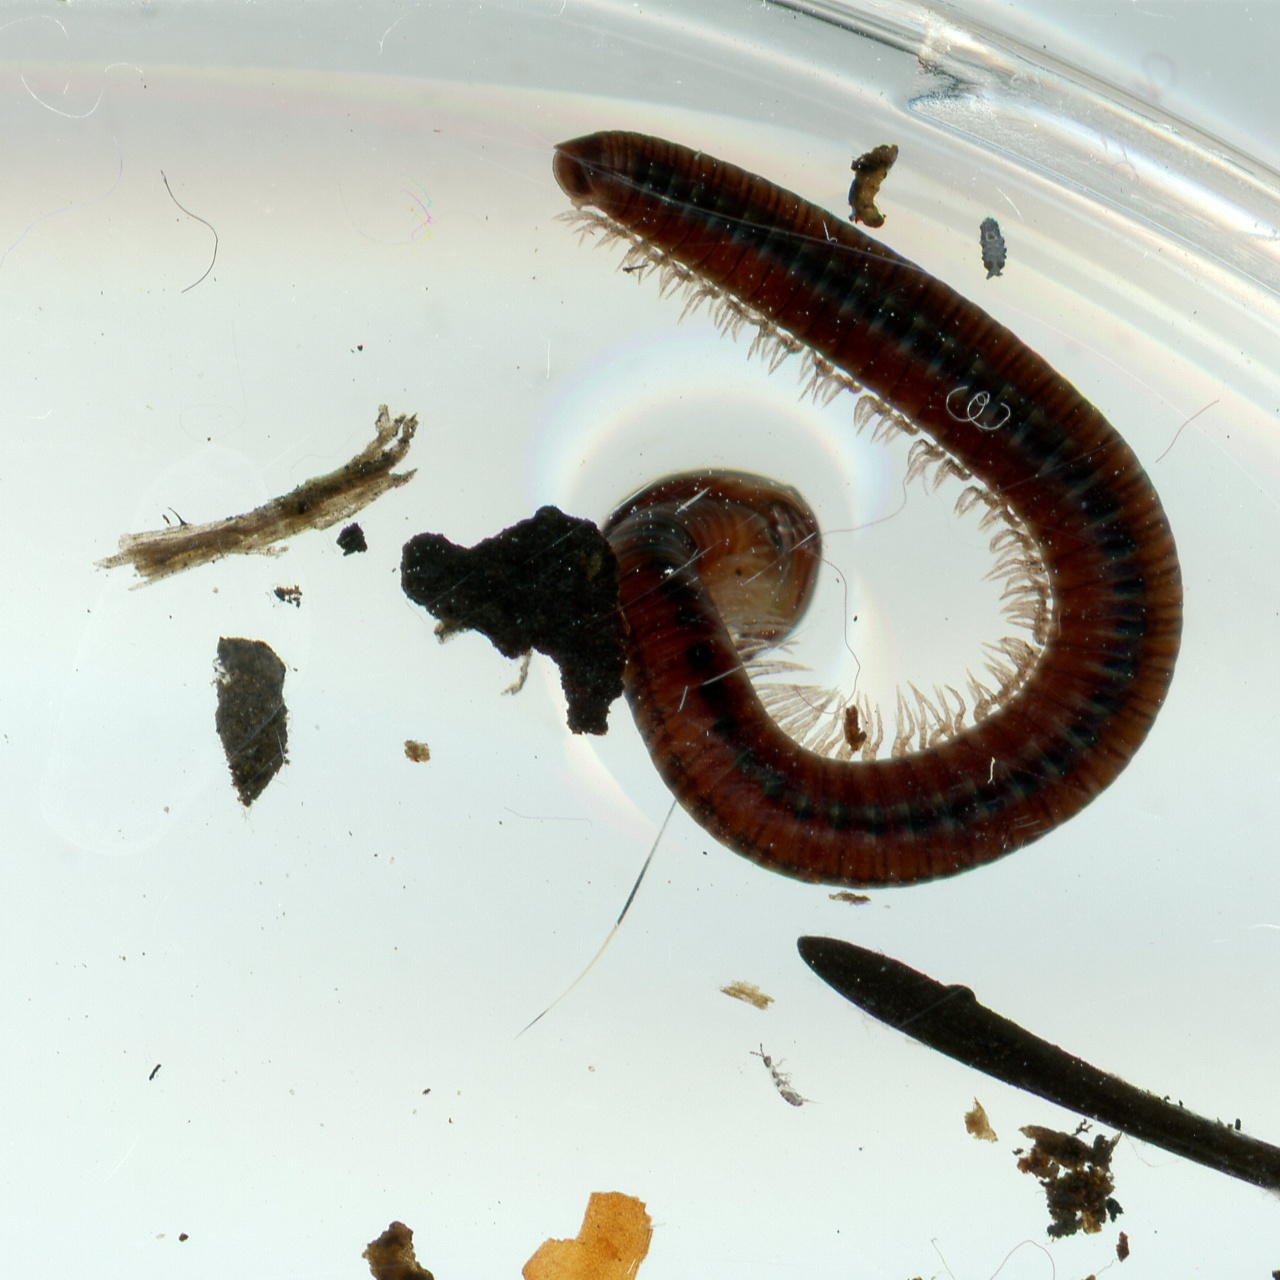arthropod: (542, 93, 1192, 894), (745, 1030, 825, 1125), (978, 212, 1010, 281)
